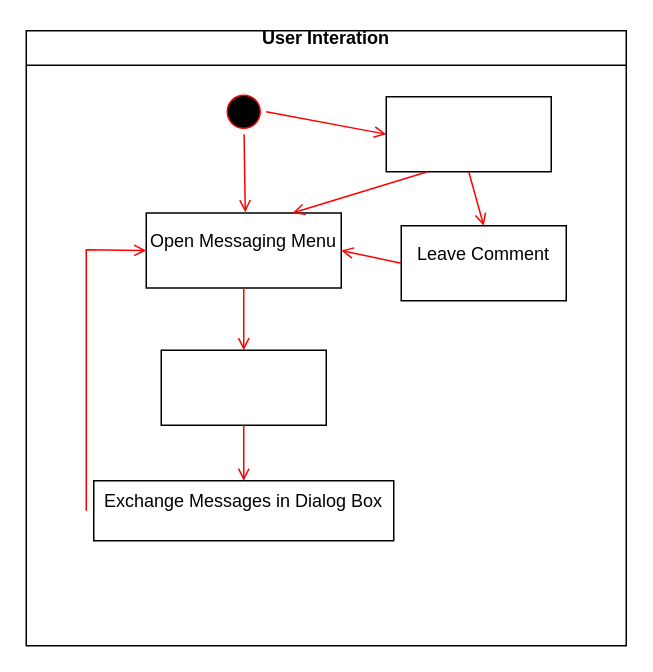
Some shapes in this 653 by 672 pixel diagram are drawn without their labels. Here are the shapes that lost their labels. From the top down, the centre of each, then its label:
At point 468,133: "Navigate to File".
At point 243,387: "Select Conversation".
